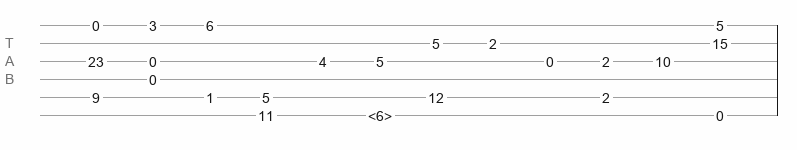0: (92, 18, 100, 28), (149, 72, 157, 82), (149, 54, 157, 64), (546, 54, 554, 64), (716, 108, 724, 118)
1: (206, 90, 214, 100)
10: (655, 54, 671, 64)
11: (258, 108, 274, 118)
12: (428, 90, 444, 100)
15: (712, 36, 728, 46)
2: (489, 36, 497, 46), (602, 90, 610, 100), (602, 54, 610, 64)
23: (88, 54, 104, 64)
3: (149, 18, 157, 28)
4: (319, 54, 327, 64)
5: (262, 90, 270, 100), (376, 54, 384, 64), (432, 36, 440, 46), (716, 18, 724, 28)
6: (206, 18, 214, 28)
9: (92, 90, 100, 100)
harmonic: (368, 108, 392, 118)
